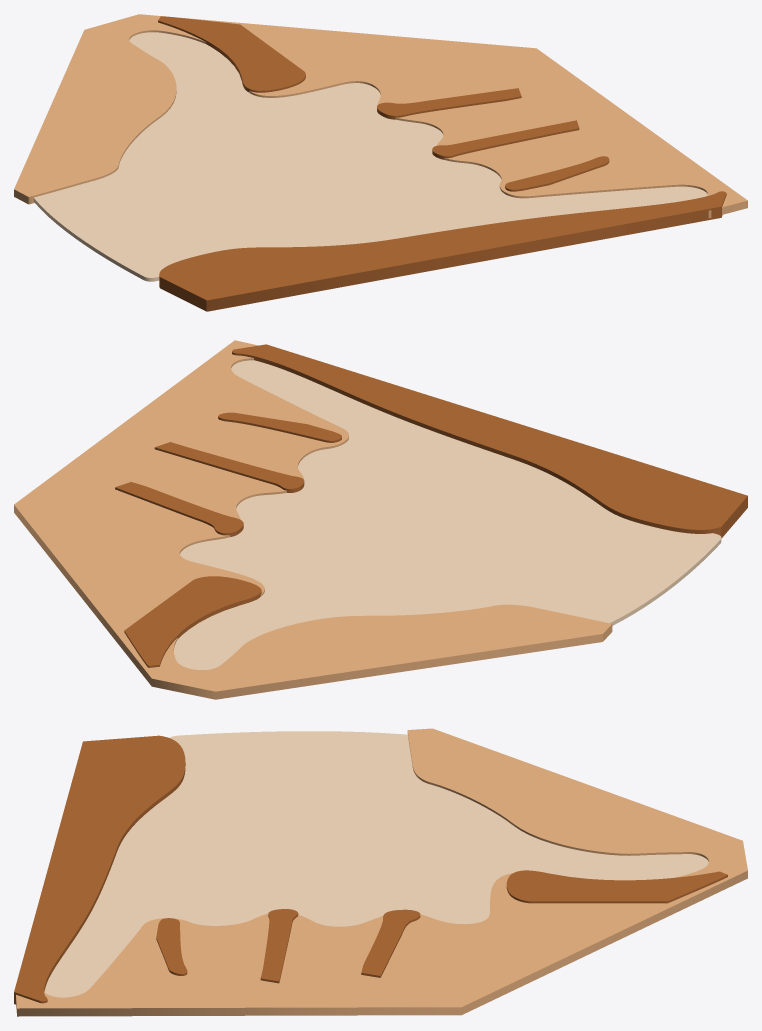
Rendered from emoji_u1f919_1f3fb.glb.
The picture shows the model from 3 angles, top to bottom: view 1: azimuth 30°, elevation 25°; view 2: azimuth 150°, elevation 25°; view 3: azimuth 270°, elevation 25°; orthographic projection. The views are drawn at different scales.
Parts seen in each view (by area): view 1: emoji_u1f919_1f3fb; view 2: emoji_u1f919_1f3fb; view 3: emoji_u1f919_1f3fb.
Part boxes in pixels (x1,y1,x2,y2): emoji_u1f919_1f3fb: [14, 14, 747, 311]; emoji_u1f919_1f3fb: [14, 340, 747, 699]; emoji_u1f919_1f3fb: [14, 728, 747, 1016].
Size of the model in its own units: 0.03 by 0.0006 by 0.0333.
